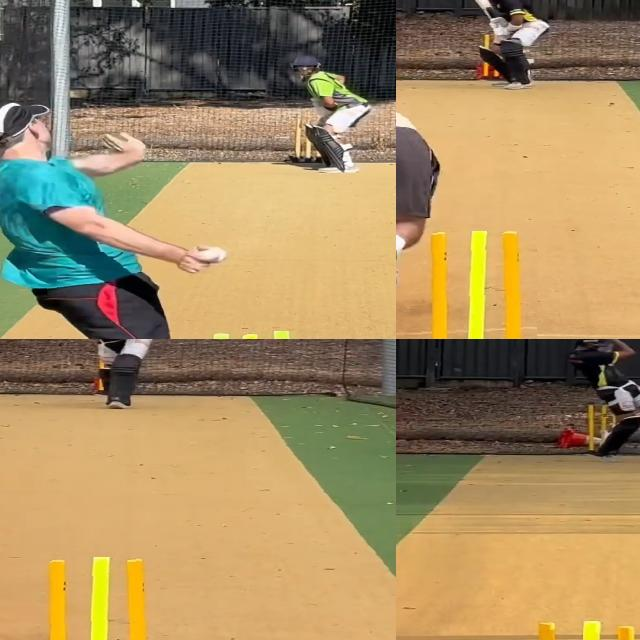Stumps: (411, 230, 536, 339), (25, 556, 160, 640)
